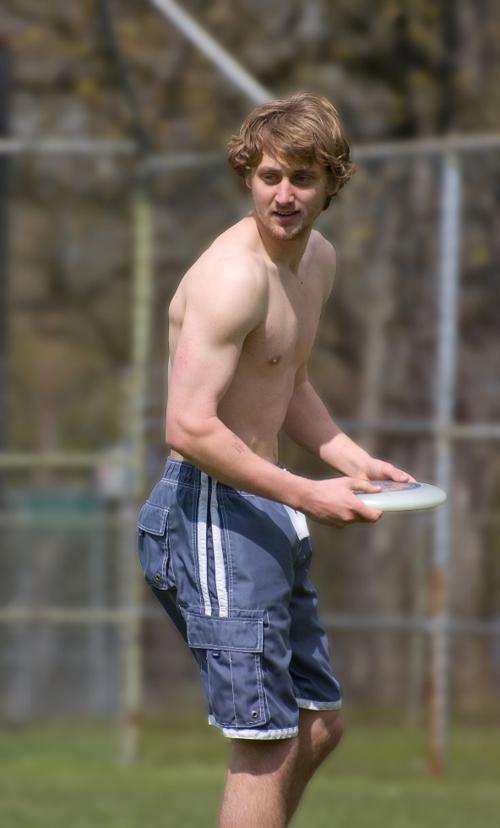person: (137, 94, 417, 828)
